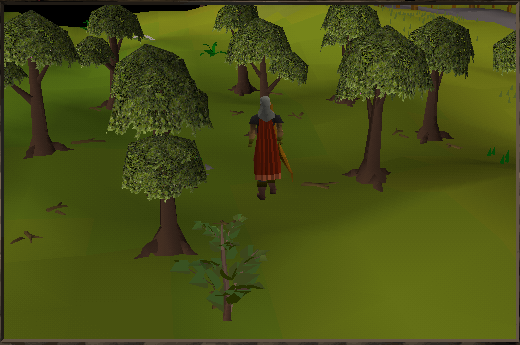Tree: (106, 49, 216, 260), (325, 29, 427, 202), (401, 6, 487, 151), (0, 3, 79, 158), (218, 9, 296, 92)
